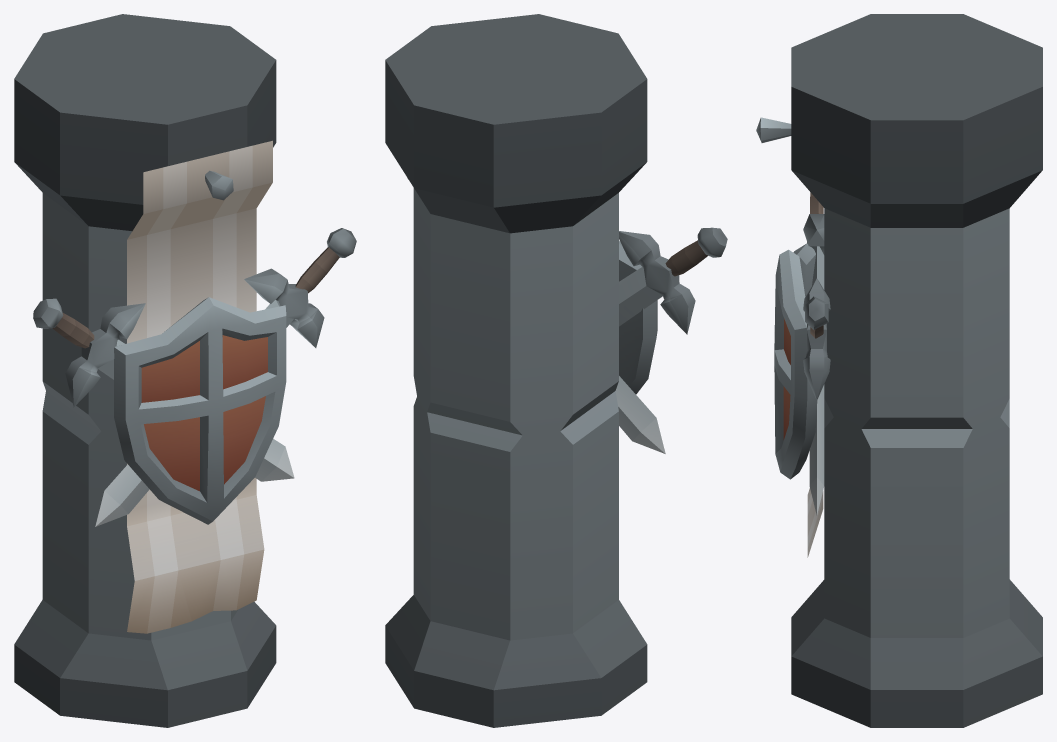
The model's file is pillar_decorated.gltf.
3 views of the same model, side by side, from view 1: azimuth 30°, elevation 25°; view 2: azimuth 150°, elevation 25°; view 3: azimuth 270°, elevation 25° (orthographic).
Visible parts, largest first — view 1: pillar_decorated; view 2: pillar_decorated; view 3: pillar_decorated.
Boxes of the visible parts, <box> form: pillar_decorated: <box>14,14,356,727</box>; pillar_decorated: <box>385,14,727,727</box>; pillar_decorated: <box>756,14,1042,727</box>.
Bounding box in the file's own units: 2.23 × 4 × 1.71.
1 material, 1 textured.
